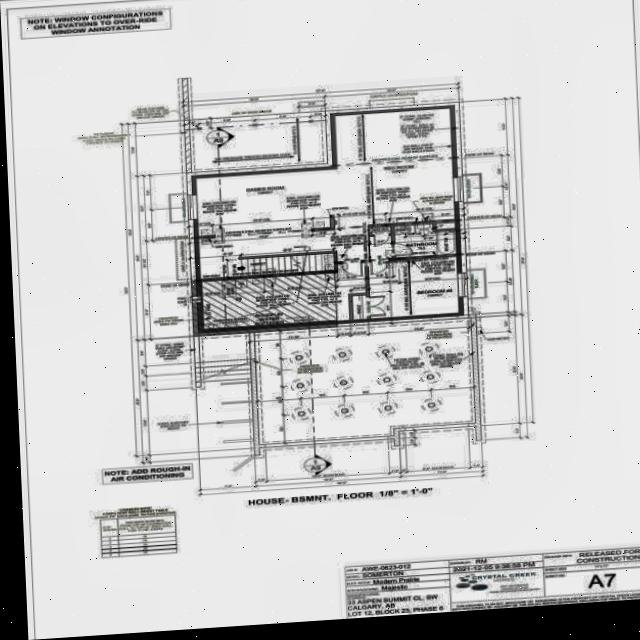room: (199, 263, 369, 330), (367, 257, 461, 319), (393, 222, 457, 258), (352, 295, 368, 320)
